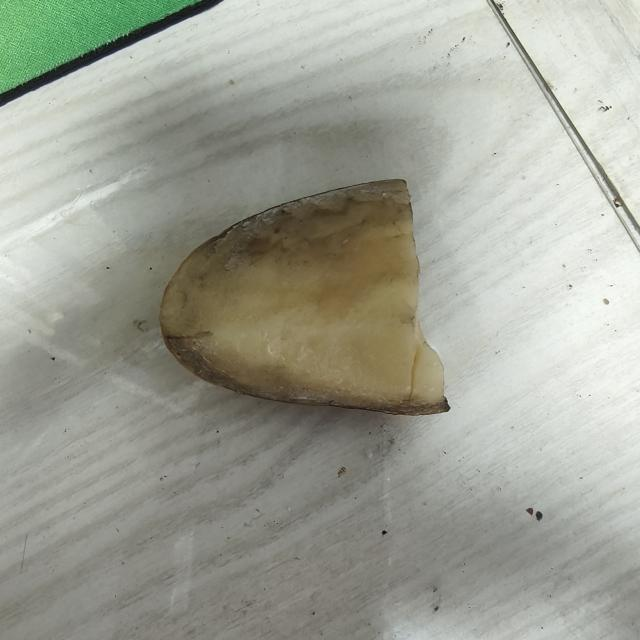-Kitchen waste - potato-: (157, 174, 454, 414)
